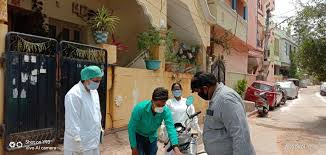mask: (80, 63, 103, 94), (149, 87, 172, 115), (190, 77, 215, 101), (168, 80, 182, 97)
